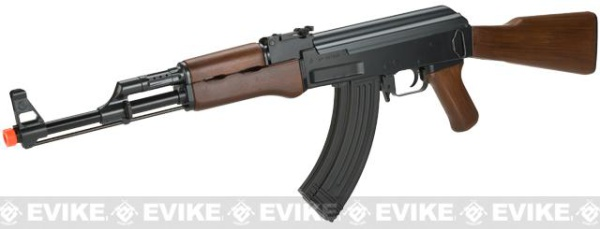ak47: (5, 7, 597, 218)
